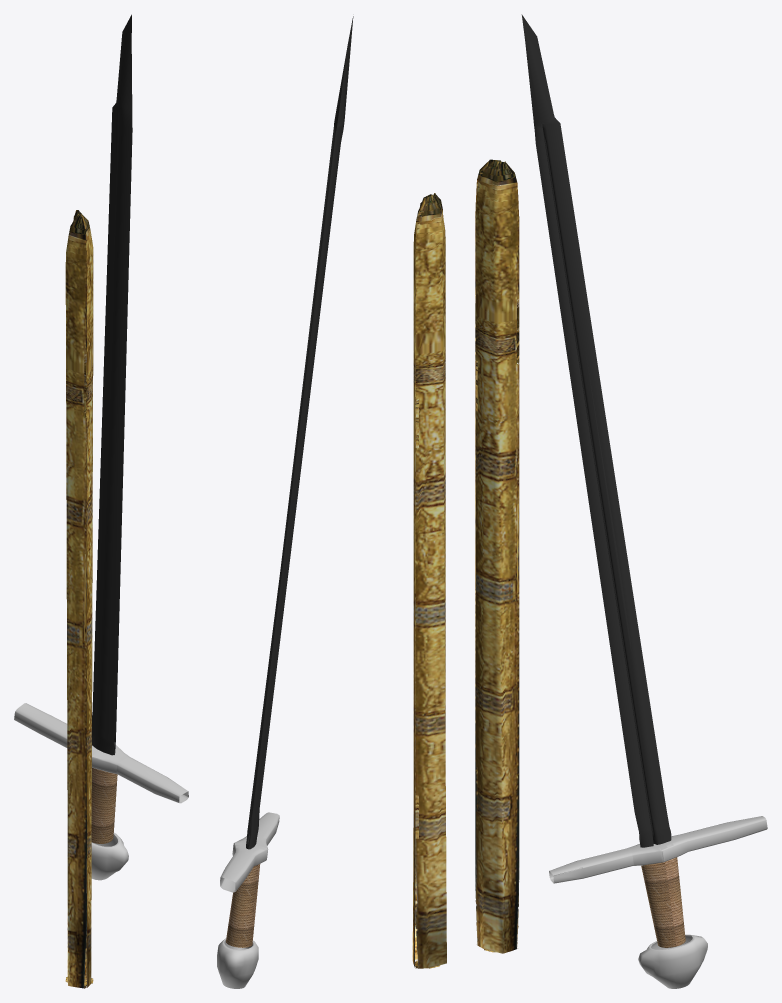
The model's file is sword5.obj.
The picture shows the model from 3 angles, left to right: view 1: azimuth 30°, elevation 25°; view 2: azimuth 150°, elevation 25°; view 3: azimuth 270°, elevation 25°; orthographic projection. The views are drawn at different scales.
Visible parts, largest first — view 1: Mesh_(2)_Mesh.004, Cube_Cube.003, Cube_Cube.001, Mesh_(2)_Mesh.003, Mesh_(2)_Mesh.002, Mesh_(2)_Mesh.001; view 2: Cube_Cube.003, Mesh_(2)_Mesh.004, Cube_Cube.001, Mesh_(2)_Mesh.003, Mesh_(2)_Mesh.002, Mesh_(2)_Mesh.001; view 3: Cube_Cube.001, Mesh_(2)_Mesh.004, Mesh_(2)_Mesh.003, Mesh_(2)_Mesh.002, Mesh_(2)_Mesh.001, Cube_Cube.003.
Part boxes in pixels (left/top/right/bottom): Mesh_(2)_Mesh.004: left=92, top=14, right=132, bottom=755; Cube_Cube.003: left=65, top=211, right=93, bottom=988; Cube_Cube.001: left=65, top=210, right=93, bottom=988; Mesh_(2)_Mesh.003: left=14, top=703, right=188, bottom=803; Mesh_(2)_Mesh.002: left=91, top=768, right=117, bottom=843; Mesh_(2)_Mesh.001: left=91, top=832, right=128, bottom=880; Cube_Cube.003: left=415, top=193, right=446, bottom=968; Mesh_(2)_Mesh.004: left=246, top=16, right=353, bottom=849; Cube_Cube.001: left=412, top=194, right=440, bottom=968; Mesh_(2)_Mesh.003: left=220, top=812, right=279, bottom=892; Mesh_(2)_Mesh.002: left=226, top=864, right=260, bottom=947; Mesh_(2)_Mesh.001: left=217, top=938, right=258, bottom=988; Cube_Cube.001: left=475, top=160, right=519, bottom=953; Mesh_(2)_Mesh.004: left=521, top=14, right=671, bottom=847; Mesh_(2)_Mesh.003: left=549, top=816, right=767, bottom=883; Mesh_(2)_Mesh.002: left=641, top=857, right=685, bottom=947; Mesh_(2)_Mesh.001: left=638, top=934, right=707, bottom=988; Cube_Cube.003: left=475, top=159, right=519, bottom=952.
Bounding box in the file's own units: 0.1995 × 1.18 × 0.3254.
